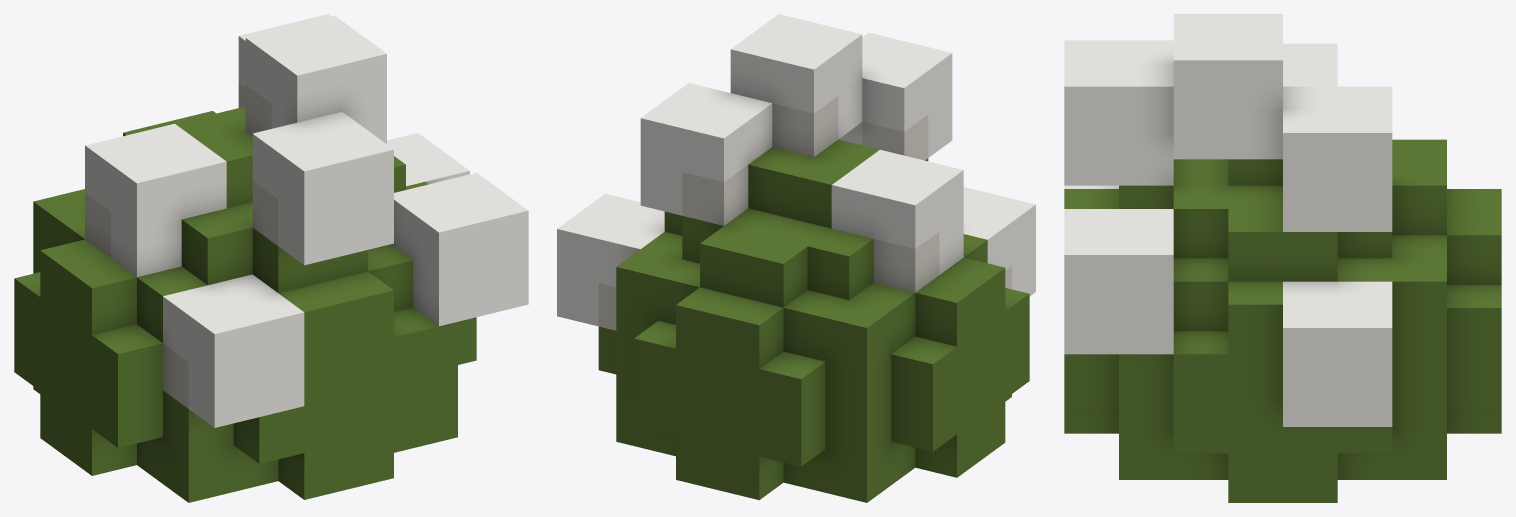
The model's file is r_cotton.glb.
3 views of the same model, side by side, from view 1: azimuth 30°, elevation 25°; view 2: azimuth 150°, elevation 25°; view 3: azimuth 270°, elevation 25° (orthographic). The views are drawn at different scales.
Visible parts, largest first — view 1: r_cotton_body; view 2: r_cotton_body; view 3: r_cotton_body.
Boxes of the visible parts, box(x1,y1,x2,y2) form: r_cotton_body: box(14, 14, 528, 502); r_cotton_body: box(557, 14, 1035, 502); r_cotton_body: box(1064, 14, 1501, 502).
Size of the model in its own units: 0.5625 by 0.5 by 0.5.
1 material, 1 textured.
